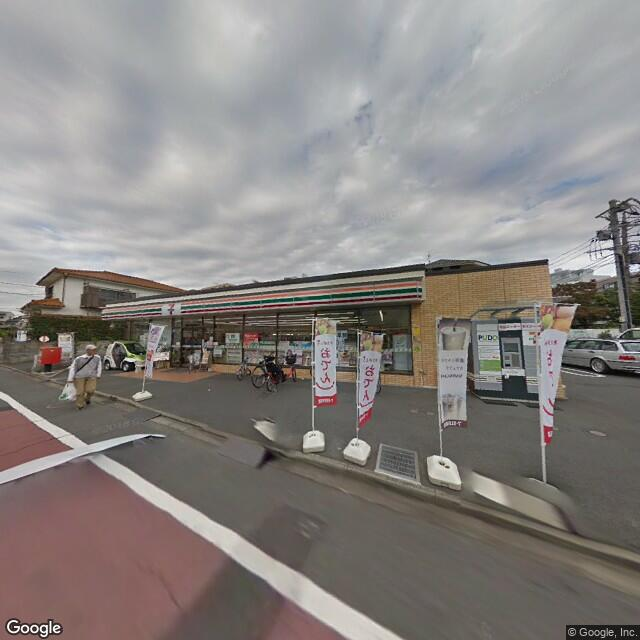7-eleven: (102, 268, 427, 322)
